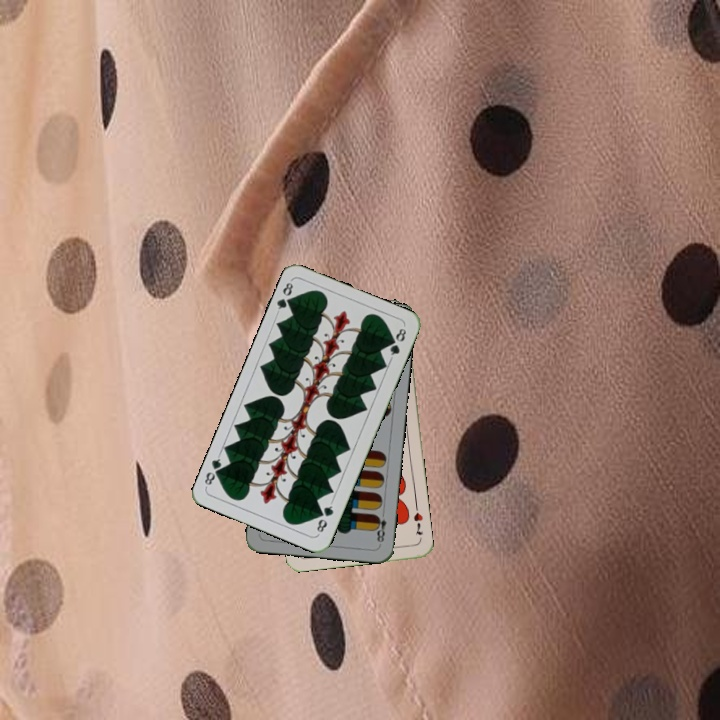E8: (371, 507, 389, 547)
G8: (273, 277, 297, 316), (313, 498, 336, 537)
H7: (409, 509, 426, 538)
